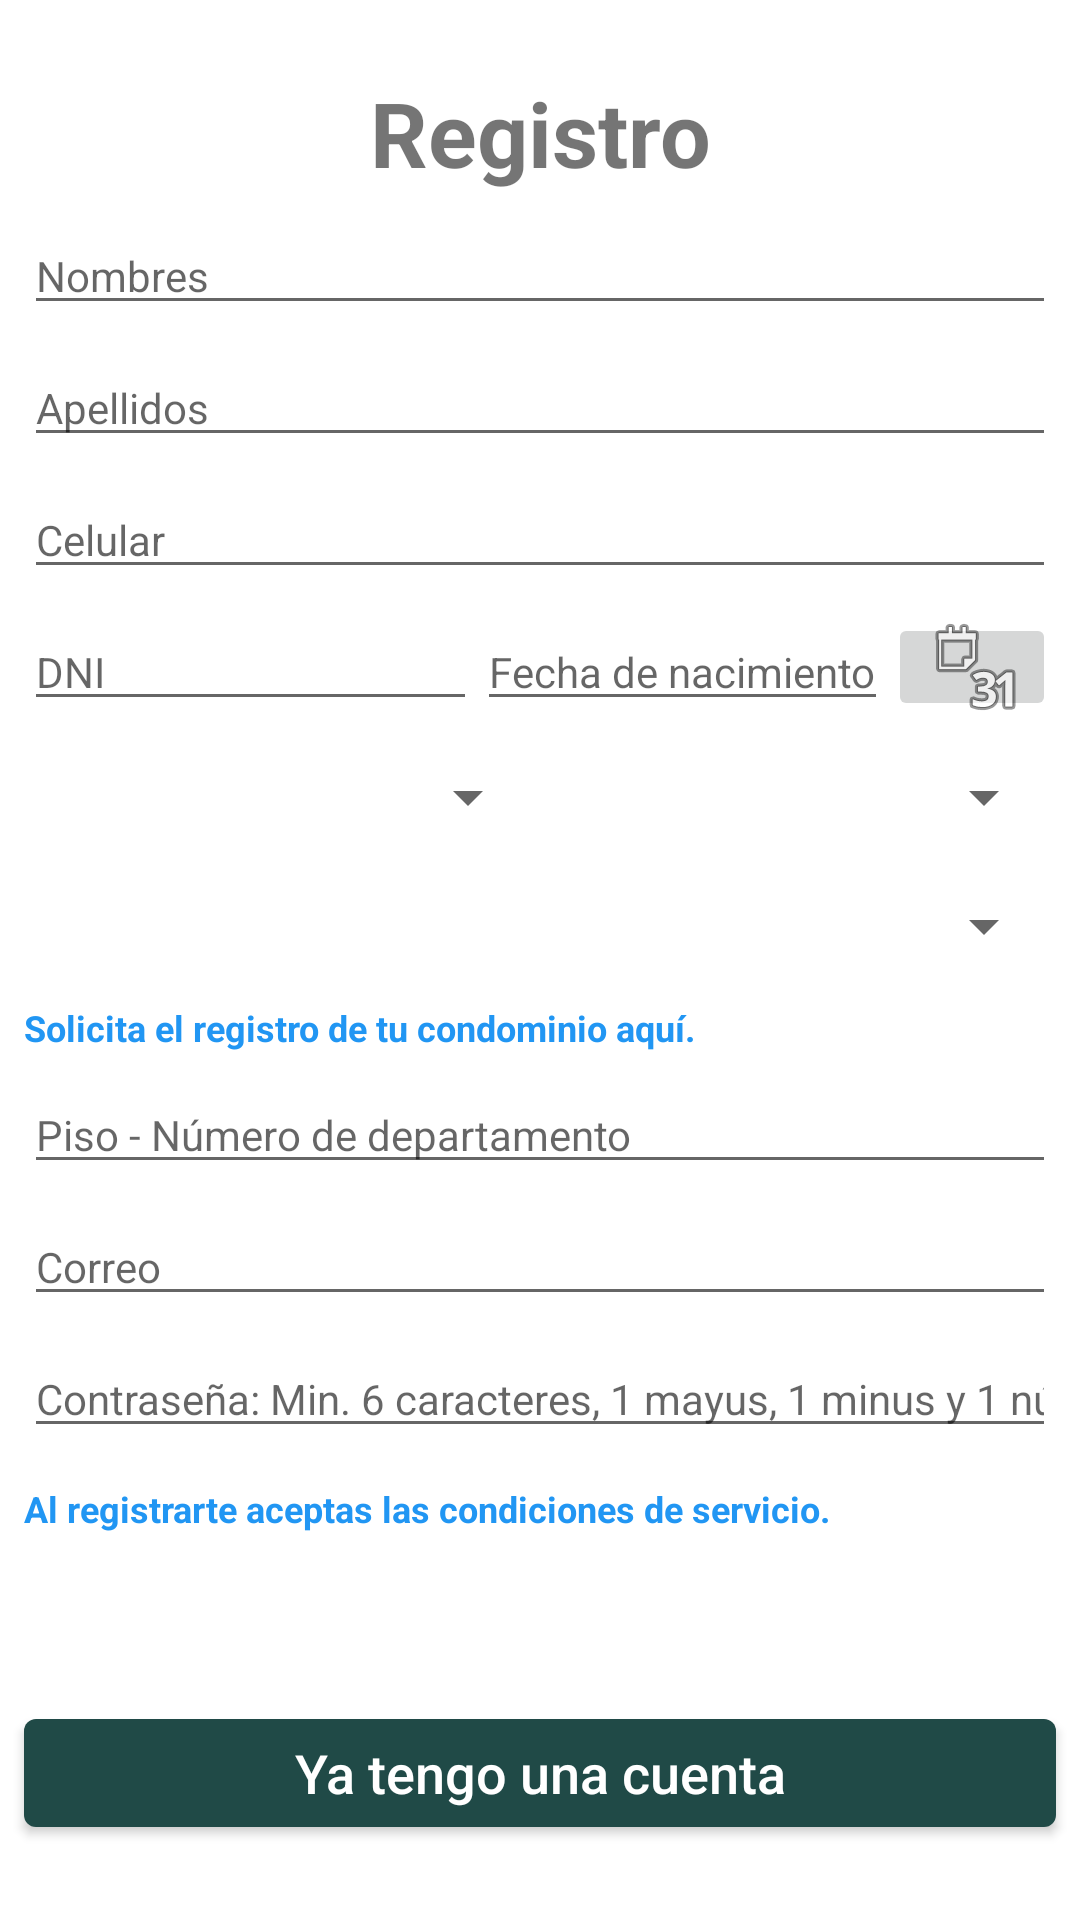

Where icons sit on this 1080 × 1920 app screen, as {"left": x1, "top": y1, "right": x2, "bottom": y2}:
month: {"left": 900, "top": 624, "right": 1044, "bottom": 710}
